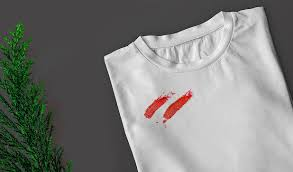kimchi: (142, 90, 167, 119), (160, 95, 189, 119), (175, 90, 194, 102)
